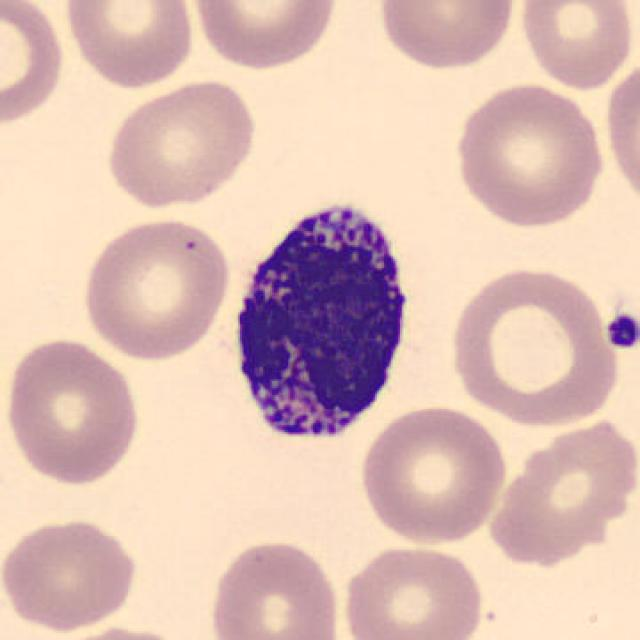Basophil: (221, 184, 423, 458)
Platelets: (601, 308, 640, 354)
RBC: (443, 263, 624, 428), (448, 80, 610, 230), (76, 214, 233, 364), (486, 417, 640, 567), (356, 402, 510, 547), (2, 332, 144, 488), (102, 76, 260, 210), (0, 515, 140, 635), (338, 541, 487, 640), (204, 536, 345, 640), (59, 0, 199, 92), (513, 0, 636, 93), (188, 0, 341, 72), (373, 0, 520, 72), (0, 0, 69, 130), (601, 53, 640, 213), (41, 622, 201, 640)
